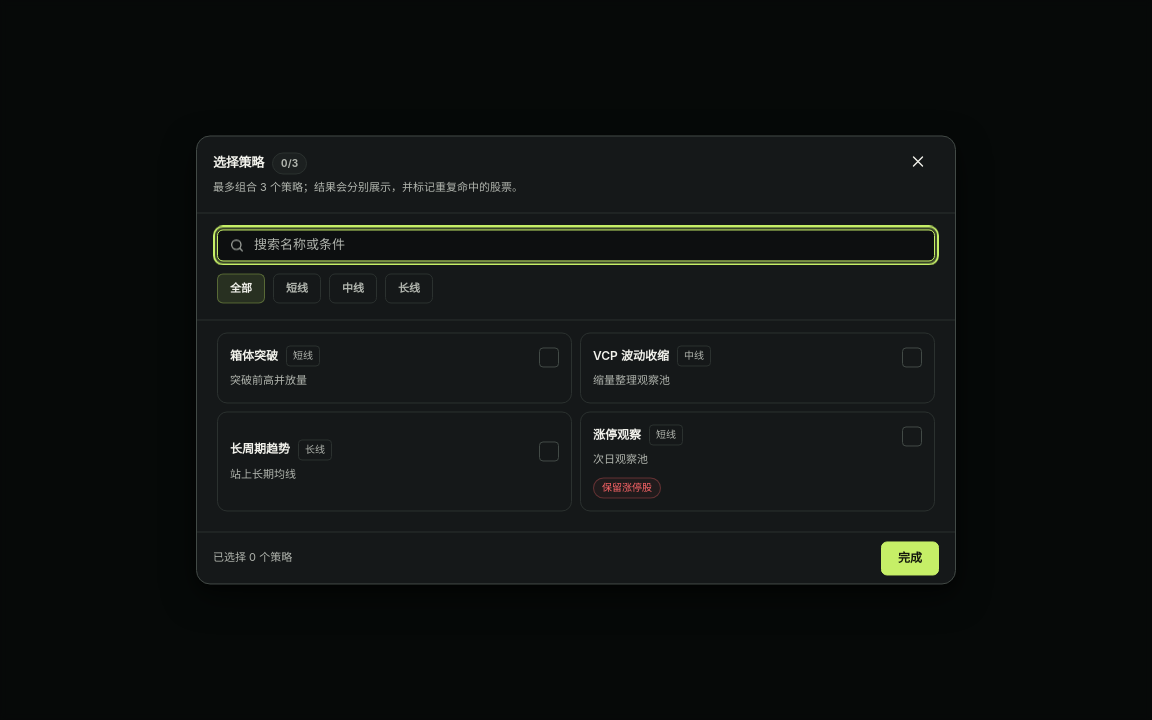
Test case: StrategyPickerDialog › filters strategies by search text and horizon
In the search field named "搜索策略": [576, 246] box left=217, top=230, right=935, bottom=262, type "VCP"
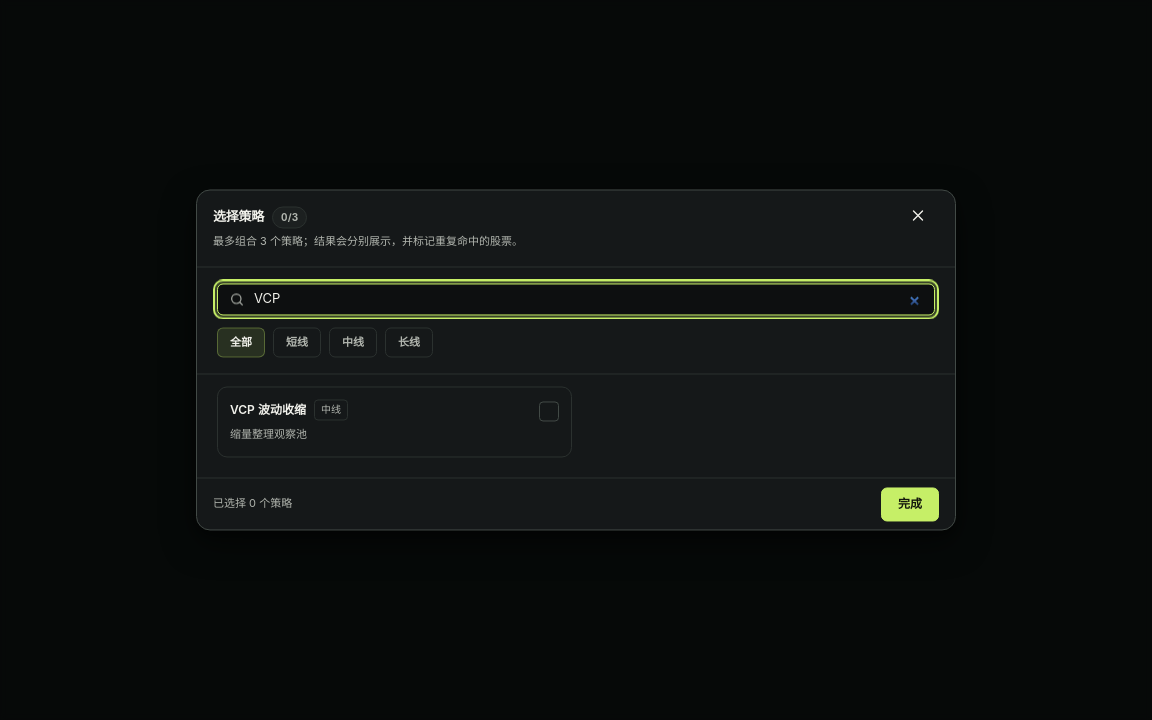
Expected: the button "VCP 波动收缩 中线 缩量整理观察池" is shown, left=217, top=386, right=572, bottom=458
Expected: the button "箱体突破" is gone
Clear the search field named "搜索策略": [576, 300] box left=217, top=284, right=935, bottom=316
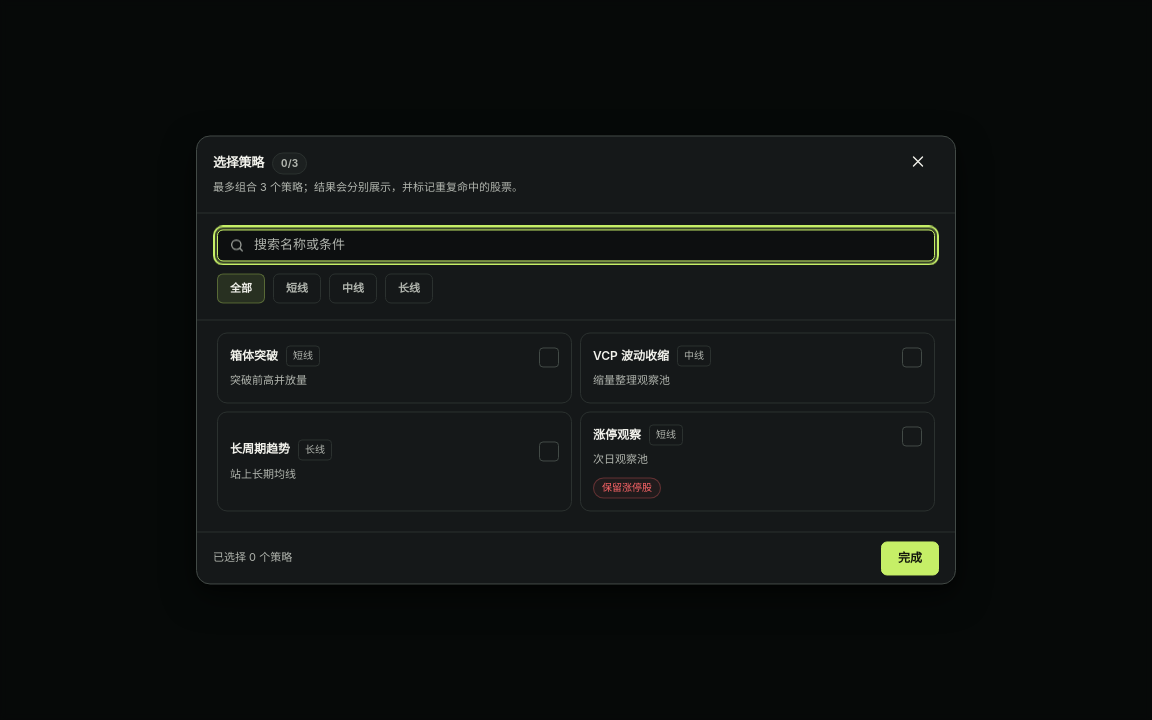
Click the button "长线": [409, 288] box left=385, top=274, right=433, bottom=304
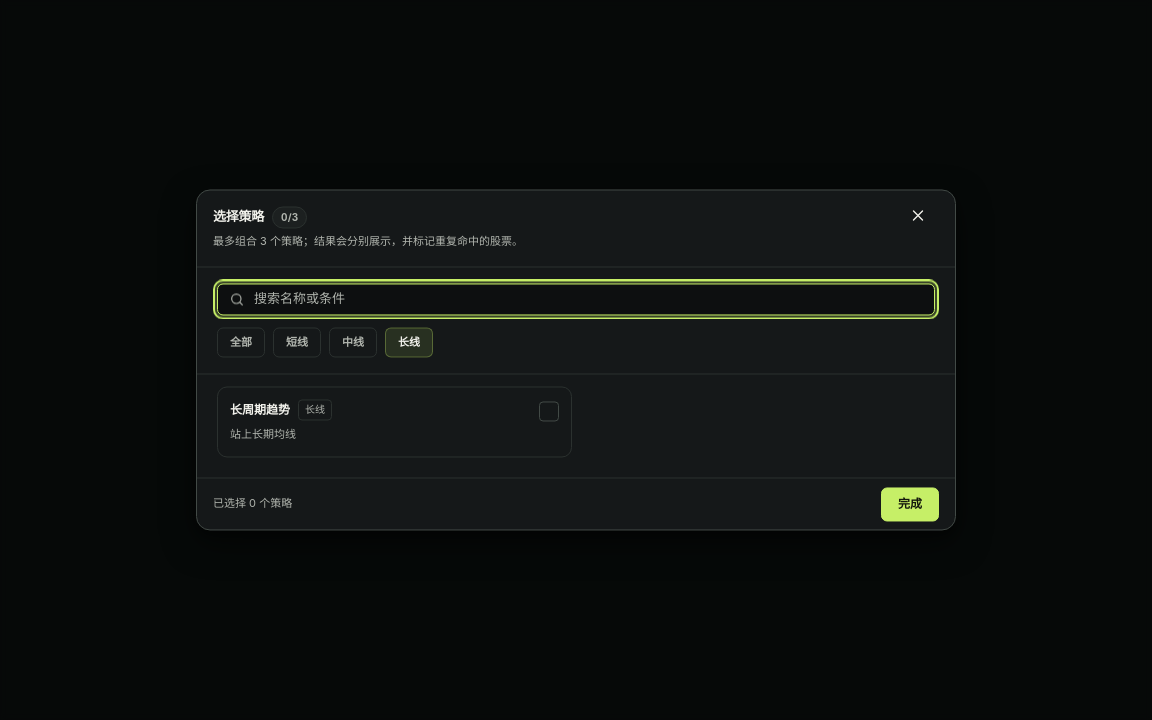
Expected: the button "长周期趋势 长线 站上长期均线" is shown, left=217, top=386, right=572, bottom=458
Expected: the button "箱体突破" is gone
